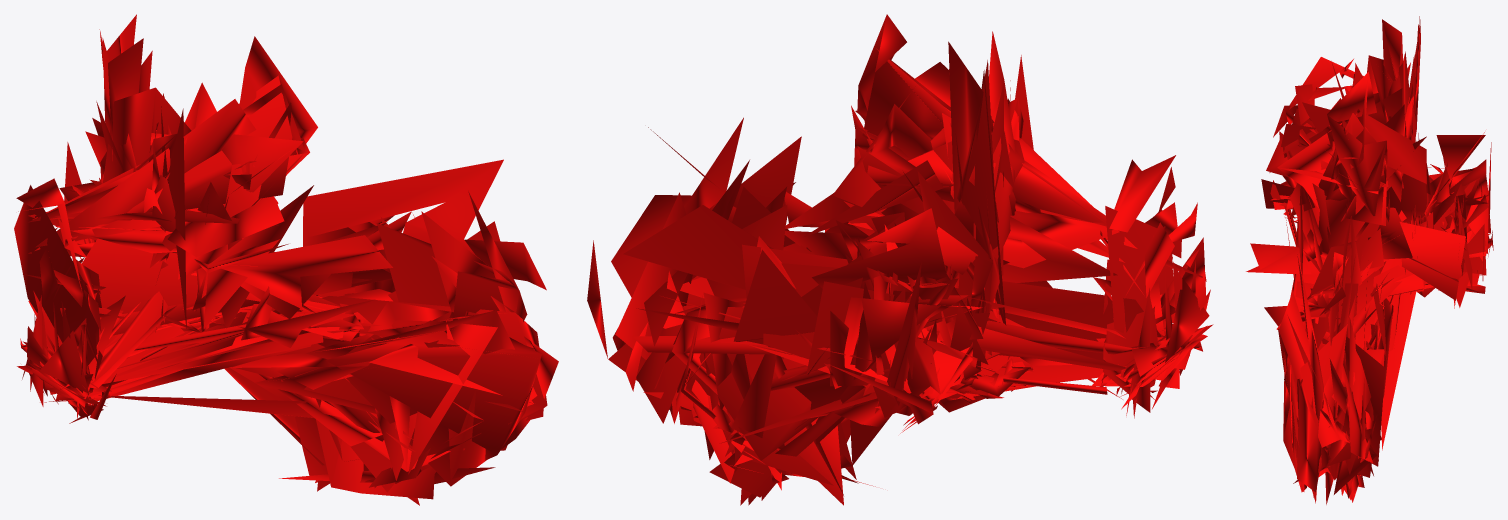
3 views of the same model, side by side, from view 1: azimuth 30°, elevation 25°; view 2: azimuth 150°, elevation 25°; view 3: azimuth 270°, elevation 25° (orthographic). The views are drawn at different scales.
Visible parts, largest first — view 1: Renderer Node; view 2: Renderer Node; view 3: Renderer Node.
Part boxes in pixels (bbox=[...]): Renderer Node: bbox=[14, 14, 558, 505]; Renderer Node: bbox=[587, 14, 1213, 505]; Renderer Node: bbox=[1246, 16, 1493, 504].
Size of the model in its own units: 0.8045 by 0.773 by 0.4385.
1 material, 1 textured.
